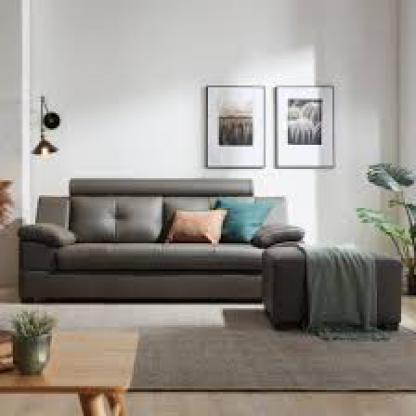sofa: (24, 178, 286, 299)
